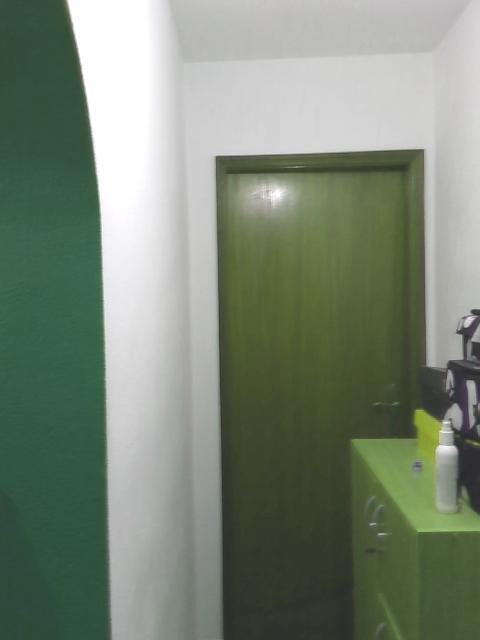closed_door: (211, 144, 411, 639)
